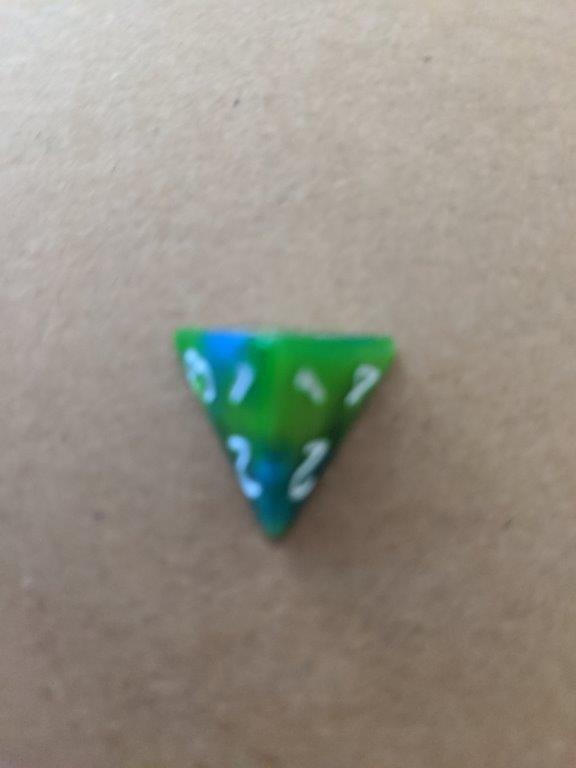d4-1: (164, 320, 404, 549)
